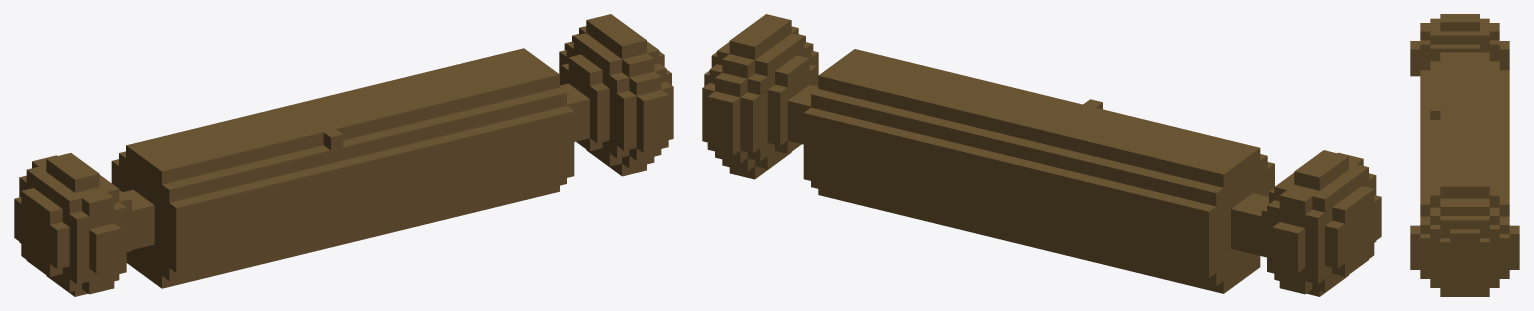
File: Amazadora.obj
3 views of the same model, side by side, from view 1: azimuth 30°, elevation 25°; view 2: azimuth 150°, elevation 25°; view 3: azimuth 270°, elevation 25° (orthographic). The views are drawn at different scales.
Bounding box in the file's own units: 5 × 1 × 1.1.
Materials: 1 (1 with a texture image).
